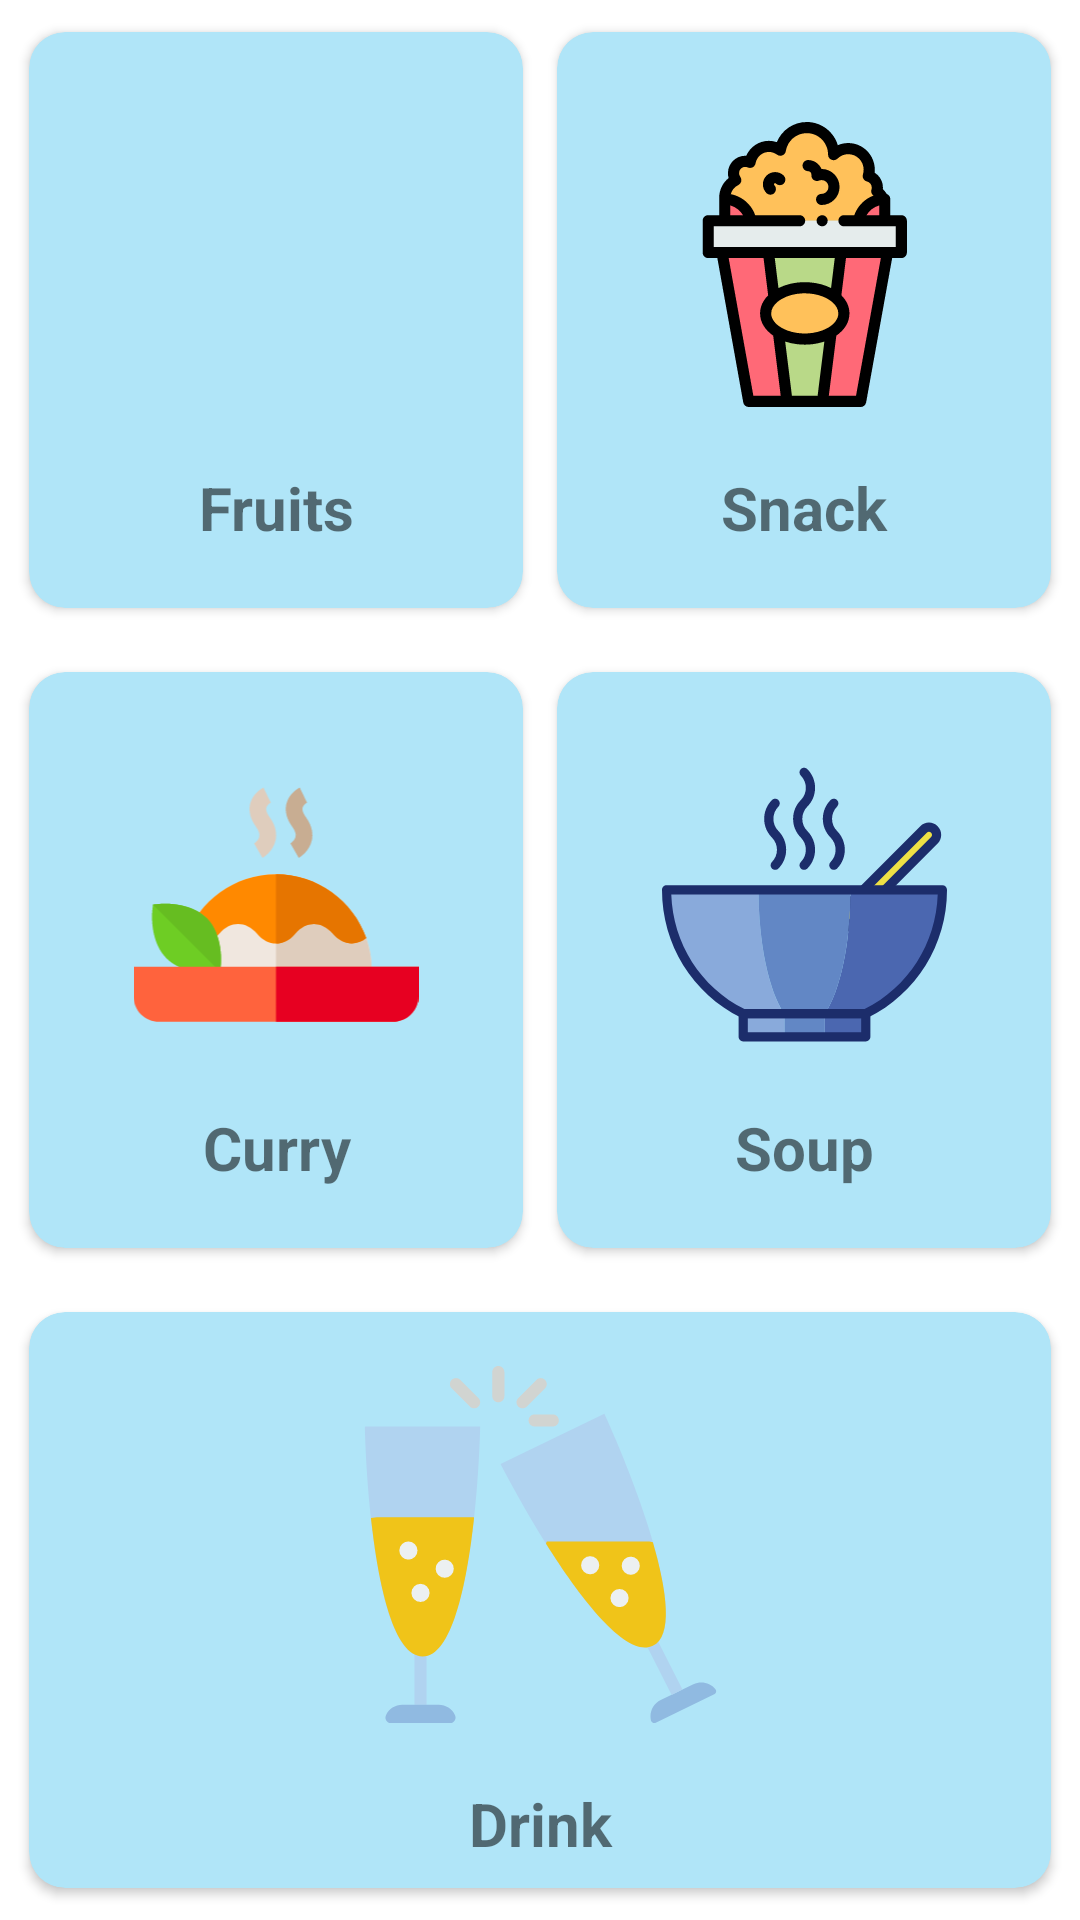

Named icons in this screenshot (1080w x 1920h) and their bounding boxes, box=[x1, y1, x2, y2]:
champagne: box=[371, 1366, 716, 1723]
